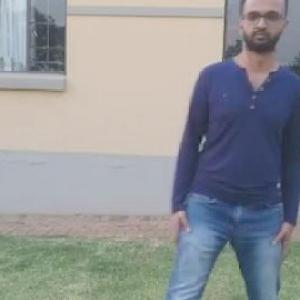follow: (181, 0, 300, 299)
